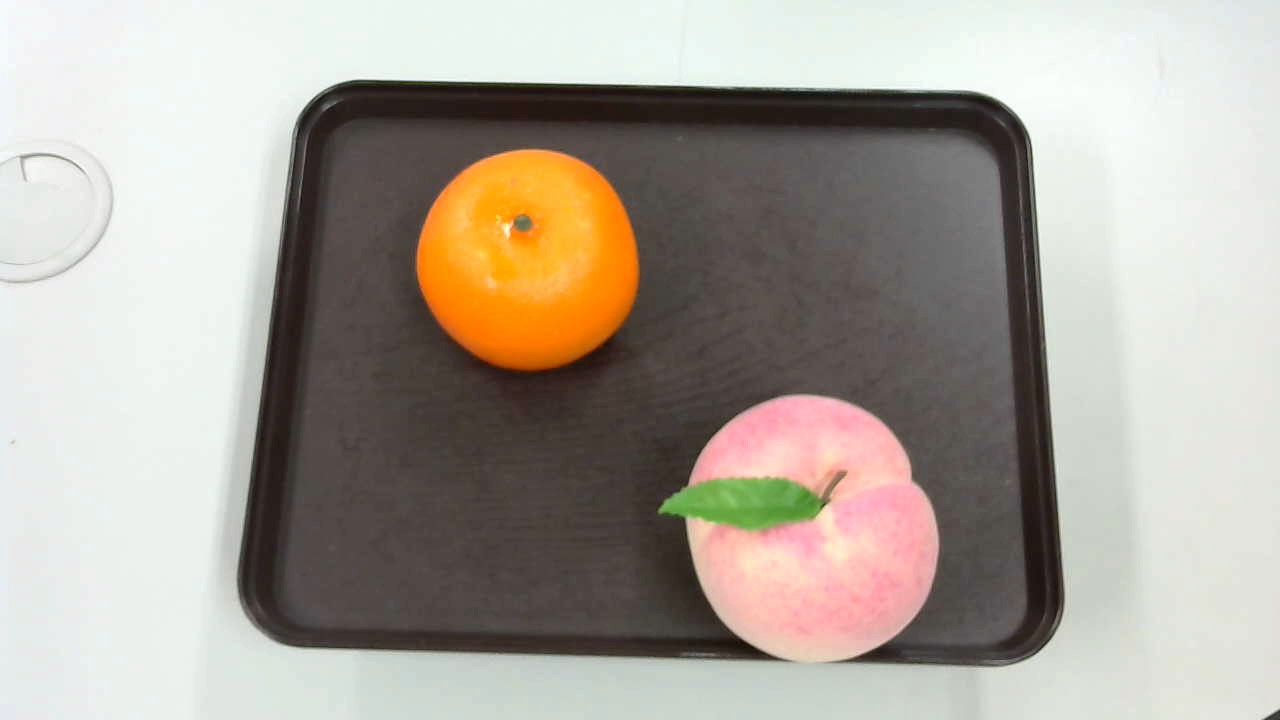orange: (414, 148, 640, 374)
peach: (652, 393, 945, 670)
